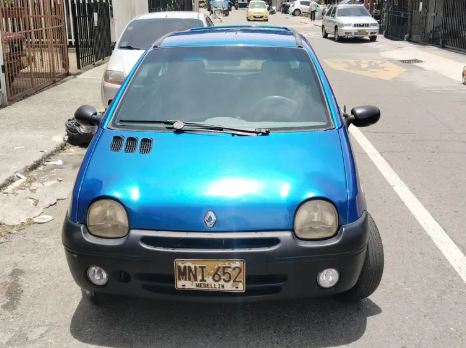placa: (172, 258, 248, 292)
